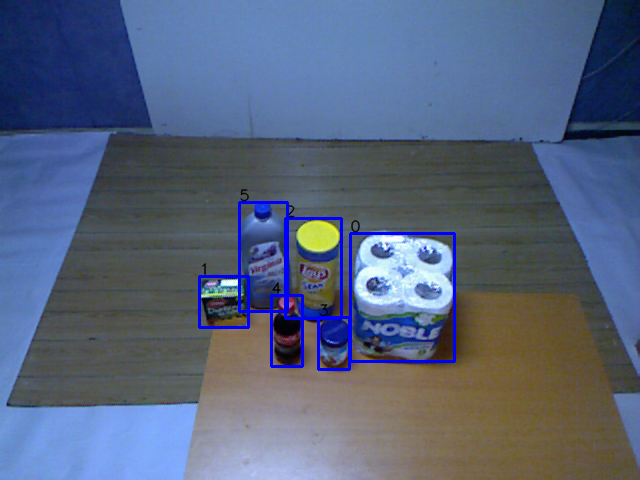coca: (271, 295, 306, 370)
confort: (347, 228, 460, 370)
crema: (233, 200, 296, 316), (314, 312, 354, 375)
durazno: (196, 273, 254, 334)
papas: (290, 216, 344, 323)
